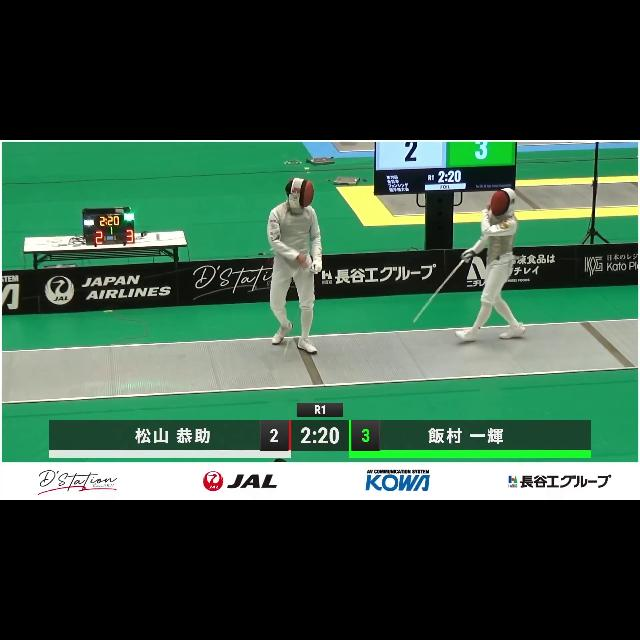blade: (410, 250, 472, 326), (280, 262, 322, 360)
